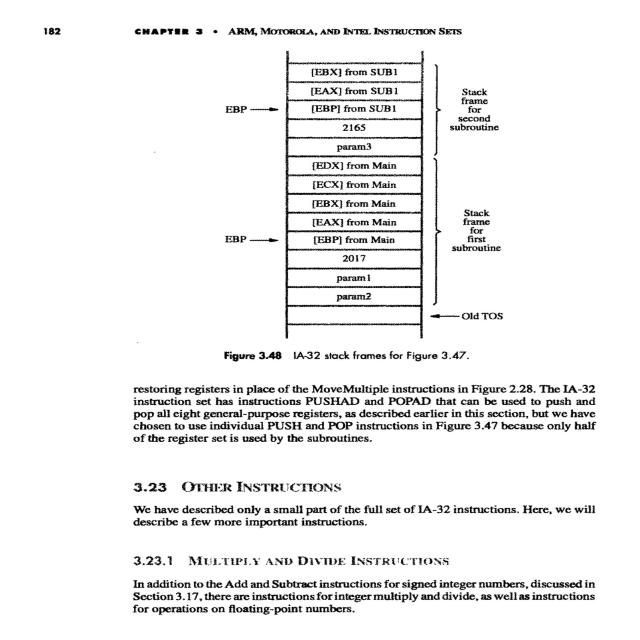diagram: (186, 42, 538, 375)
